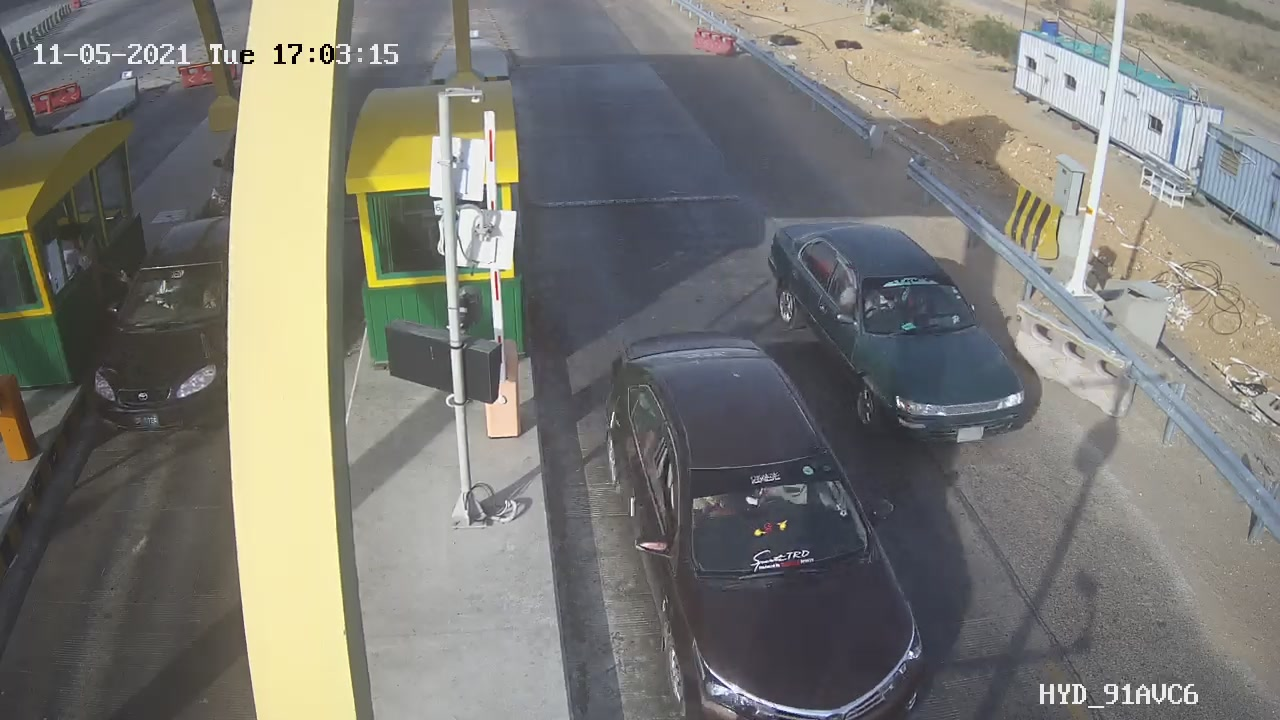F1: (751, 199, 1048, 464)
